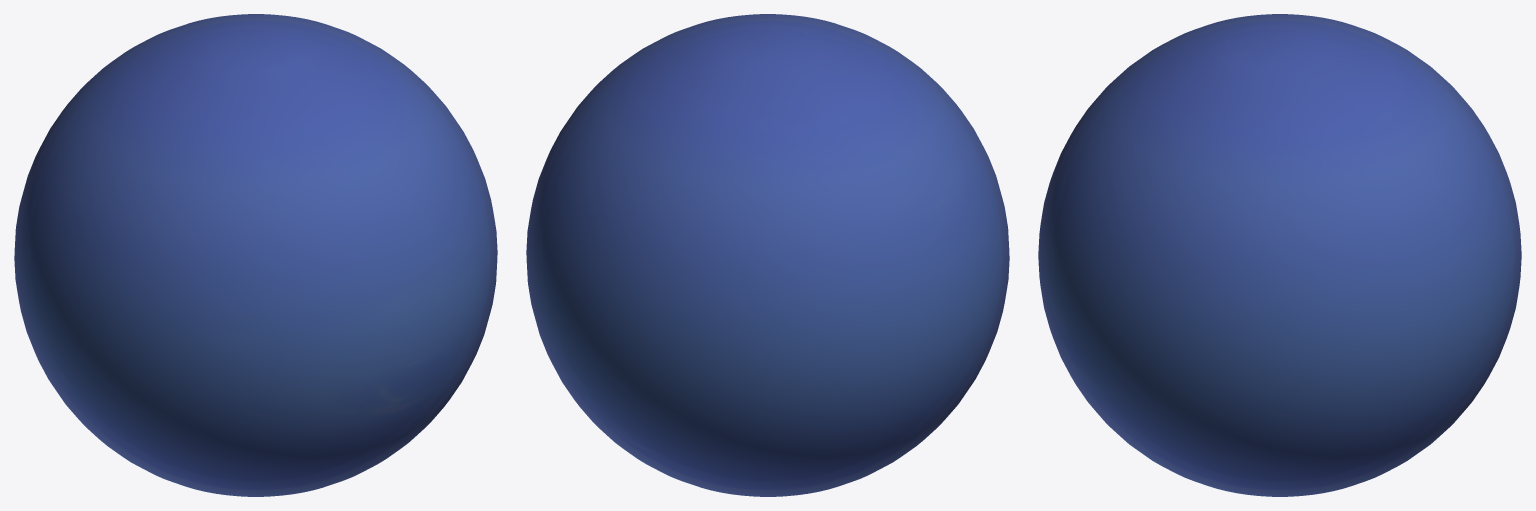
File: neptune.glb
The picture shows the model from 3 angles, left to right: view 1: azimuth 30°, elevation 25°; view 2: azimuth 150°, elevation 25°; view 3: azimuth 270°, elevation 25°; orthographic projection.
Parts seen in each view (by area): view 1: SphereThree; view 2: SphereThree; view 3: SphereThree.
Part boxes in pixels (x1=…): SphereThree: x1=14, y1=14, x2=497, y2=496; SphereThree: x1=526, y1=14, x2=1009, y2=496; SphereThree: x1=1038, y1=14, x2=1521, y2=496.
Bounding box in the file's own units: 1917 × 1917 × 1917.
